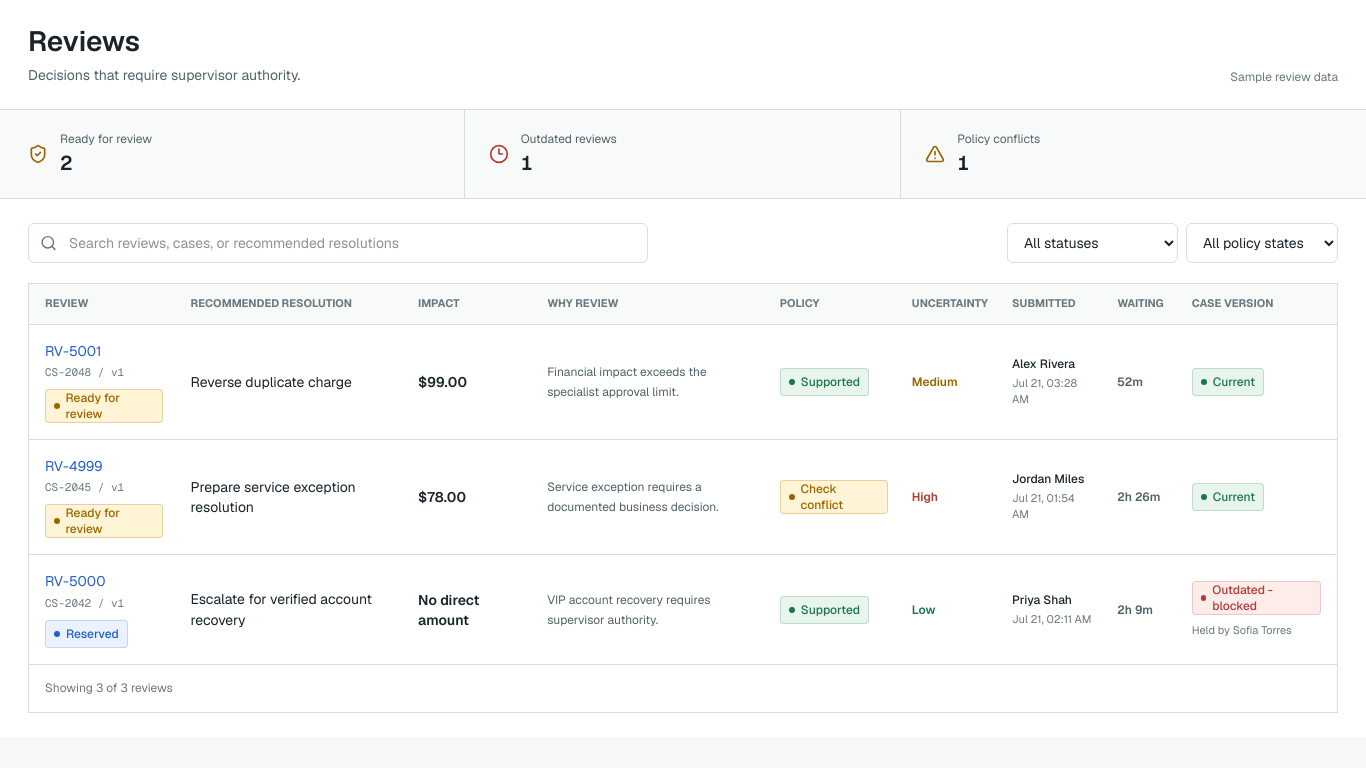
ReviewQueue › offers a reset when search hides existing reviews
The width and height of the screenshot is (1366, 768).
Type "does-not-exist" into the field labelled "Search reviews" at [338, 243], box [28,223,648,263]
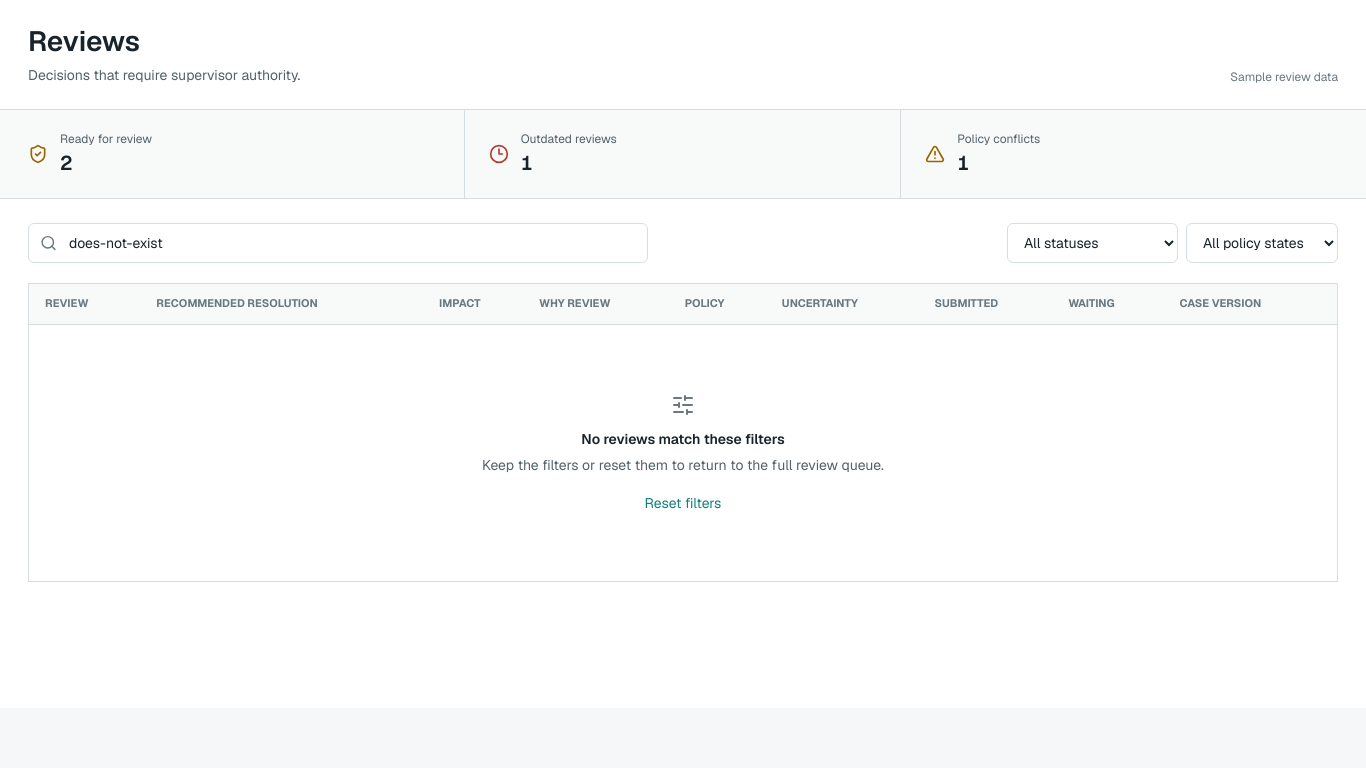
Expected: the text "No reviews match these filters" is shown, [581,430,785,448]
Expected: the button "Reset filters" is shown, [645,493,721,513]
